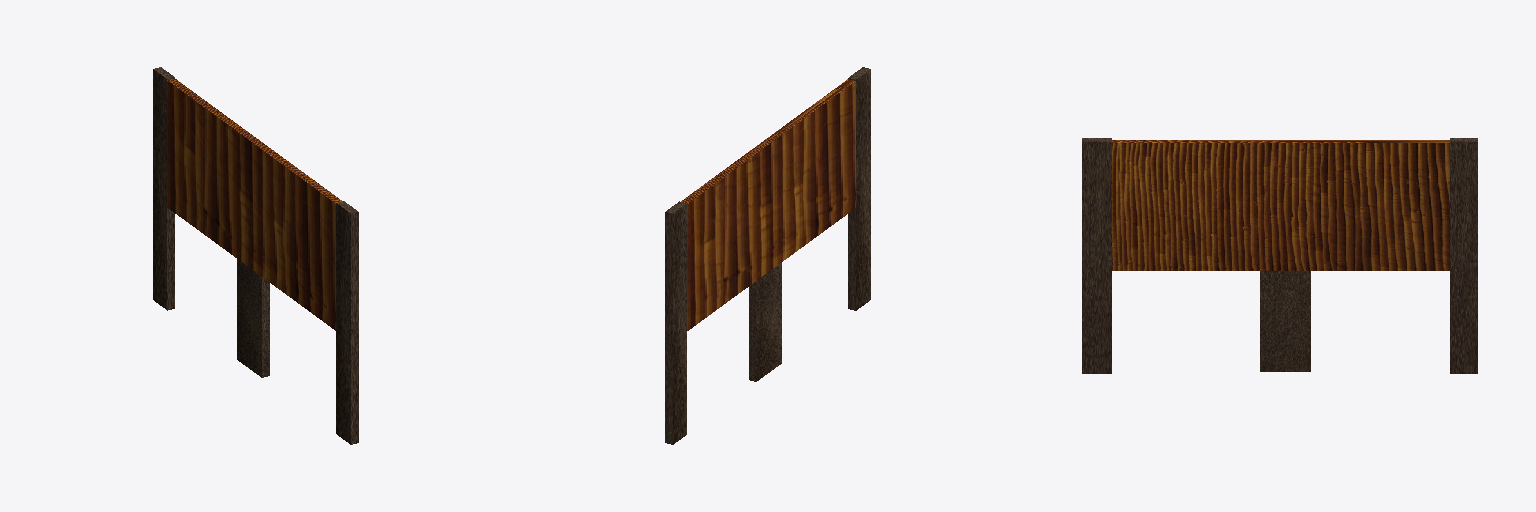
3 views of the same model, side by side, from view 1: azimuth 30°, elevation 25°; view 2: azimuth 150°, elevation 25°; view 3: azimuth 270°, elevation 25° (orthographic).
Visible parts, largest first — view 1: pCube21; view 2: pCube21; view 3: pCube21.
Part boxes in pixels (left/top/right/bottom): pCube21: left=153, top=67, right=358, bottom=444; pCube21: left=665, top=67, right=870, bottom=444; pCube21: left=1082, top=138, right=1477, bottom=373.
Bounding box in the file's own units: 0.5425 × 15.28 × 23.7.
2 materials, 2 textured.